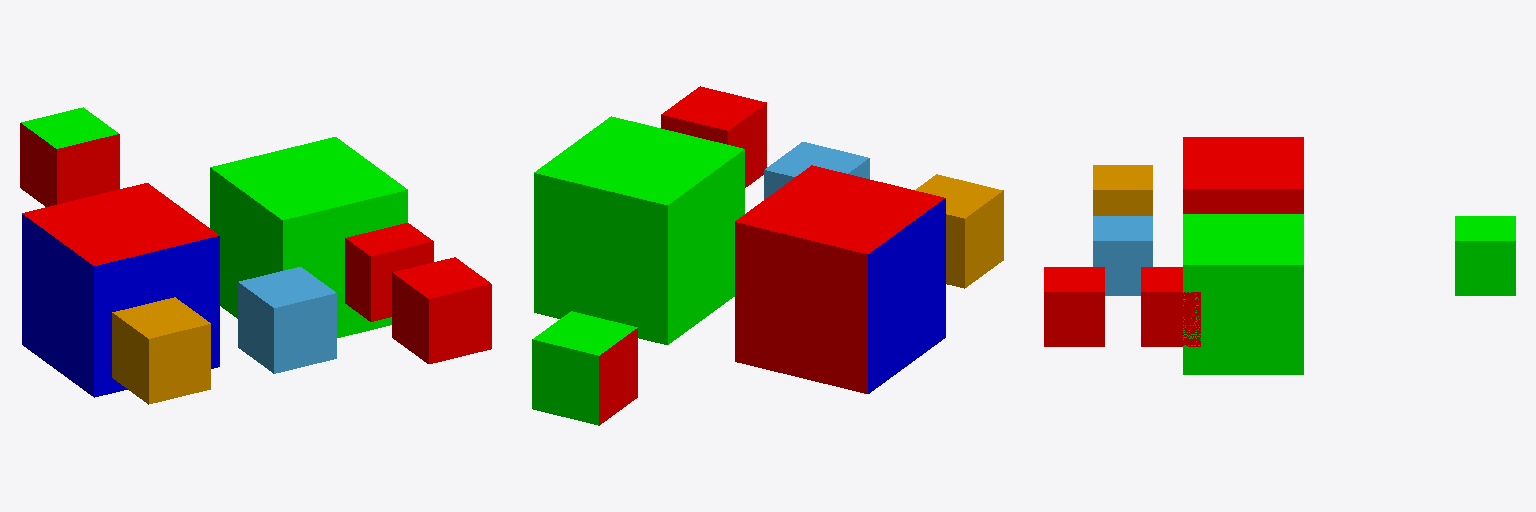
The robot description file, URDF, robot "test_displayname":
<?xml version="1.0"?>
<!-- Using characters other than alphanumeric characters and '_' -->
<robot name="test_displayname">
  <material name="material:red">
    <color rgba="1.0 0.0 0.0 1.0"/>
  </material>
  <link name="link-box">
    <visual>
      <geometry>
        <box size="0.5 0.5 0.5"/>
      </geometry>
    </visual>
  </link>
  <link name="link-box2">
    <visual>
      <geometry>
        <box size="0.5 0.5 0.5"/>
      </geometry>
    </visual>
  </link>
  <link name="link-mesh_obj">
    <visual>
      <geometry>
        <!-- Contains "Cube:Red" and "Cube:Green" as meshes. -->
        <mesh filename="assets/name_test.obj" scale="0.5 0.5 0.5"/>
      </geometry>
      <material name="material:red"/>
    </visual>
  </link>
  <link name="link-mesh_dae">
    <visual>
      <geometry>
        <!-- The node name is "Cube:1". -->
        <mesh filename="assets/name_test.dae" scale="0.5 0.5 0.5"/>
      </geometry>
    </visual>
  </link>
  <link name="link-box_two_materials_same_names">
    <visual>
      <geometry>
        <!-- With the same material name (IDs differ) -->
        <mesh filename="assets/box_two_materials_same_names.dae" scale="0.5 0.5 0.5"/>
      </geometry>
    </visual>
  </link>

  <joint name="joint:root" type="fixed">
    <origin rpy="0 0 0" xyz="1 0 0"/>
    <parent link="link-box"/>
    <child link="link-box2"/>
  </joint>
  <joint name="mesh_obj" type="fixed">
    <origin rpy="0 0 0" xyz="1 0 0"/>
    <parent link="link-box2"/>
    <child link="link-mesh_obj"/>
  </joint>
  <joint name="mesh_dae" type="fixed">
    <origin rpy="0 0 0" xyz="0 1 0"/>
    <parent link="link-box2"/>
    <child link="link-mesh_dae"/>
  </joint>
  <joint name="box_two_materials_same_names" type="fixed">
    <origin rpy="0 0 0" xyz="0 3 0"/>
    <parent link="link-box2"/>
    <child link="link-box_two_materials_same_names"/>
  </joint>
</robot>

--- Facts derived from the render (not from the file) ---
3 views of the same robot in one strip: view 1: azimuth 30°, elevation 25°; view 2: azimuth 150°, elevation 25°; view 3: azimuth 270°, elevation 25° (orthographic).
Model test_displayname with 5 links and 4 joints (4 fixed), rooted at link-box, posed every joint at zero.
Links seen in each view (by area): view 1: link-mesh_dae, link-mesh_obj, link-box2, link-box, link-box_two_materials_same_names; view 2: link-mesh_dae, link-box_two_materials_same_names, link-box, link-mesh_obj, link-box2; view 3: link-mesh_dae, link-mesh_obj, link-box_two_materials_same_names, link-box2, link-box.
Boxes of the visible links, <box> form: link-mesh_dae: <box>22,137,407,397</box>; link-mesh_obj: <box>345,223,491,363</box>; link-box2: <box>238,267,336,373</box>; link-box: <box>112,297,210,404</box>; link-box_two_materials_same_names: <box>20,107,119,206</box>; link-mesh_dae: <box>534,116,945,393</box>; link-box_two_materials_same_names: <box>532,311,637,425</box>; link-box: <box>915,174,1003,288</box>; link-mesh_obj: <box>661,86,766,187</box>; link-box2: <box>764,142,869,199</box>; link-mesh_dae: <box>1183,137,1303,374</box>; link-mesh_obj: <box>1044,267,1200,346</box>; link-box_two_materials_same_names: <box>1455,216,1515,295</box>; link-box2: <box>1093,216,1152,295</box>; link-box: <box>1093,165,1152,215</box>.
Size in the robot's own frame: 2.5 by 3.9 by 1 metres.
Meshes: 3 distinct files referenced, 3 mesh visuals loaded (2 Collada DAE, 1 OBJ).